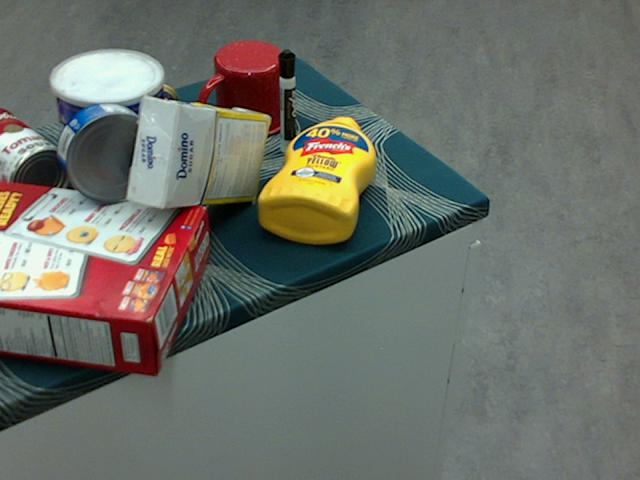cracker_box: (0, 180, 209, 373)
large_marker: (278, 49, 296, 154)
master_chef_can: (51, 51, 170, 226)
mug: (195, 41, 289, 139)
mustard_bottle: (258, 115, 376, 243)
potted_meat_can: (78, 83, 178, 166)
sugar_box: (127, 99, 268, 210)
tomato_soup_can: (0, 105, 70, 207)
tuna_fish_can: (57, 102, 160, 203)
